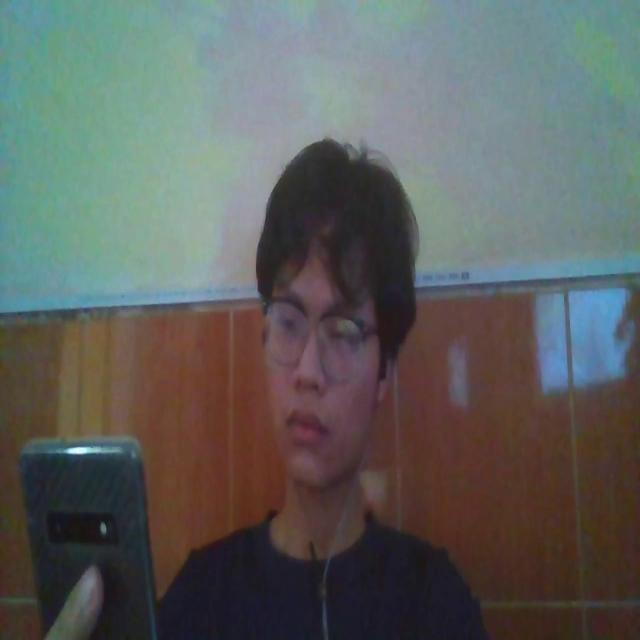phone: (21, 429, 158, 640)
student: (146, 135, 492, 640)
